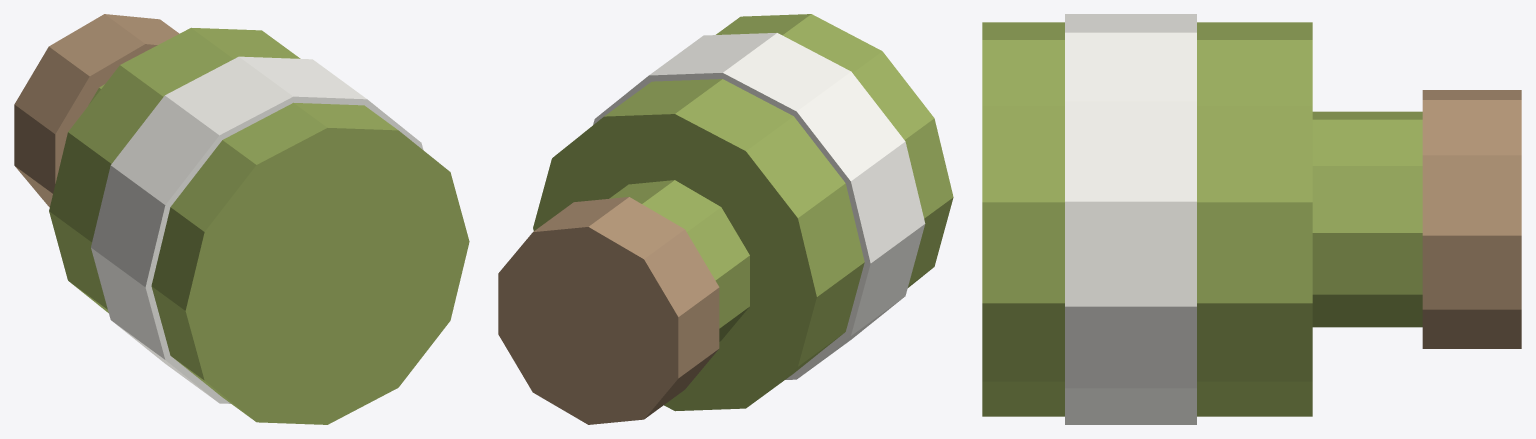
The model's file is green_dye_held.gltf.
3 renders of one model, left to right at view 1: azimuth 30°, elevation 25°; view 2: azimuth 150°, elevation 25°; view 3: azimuth 270°, elevation 25°, orthographic. The views are drawn at different scales.
Parts seen in each view (by area): view 1: colors_green_dye_held; view 2: colors_green_dye_held; view 3: colors_green_dye_held.
Boxes of the visible parts, x1,y1,x2,y2 form: colors_green_dye_held: [14, 14, 469, 424]; colors_green_dye_held: [498, 14, 953, 424]; colors_green_dye_held: [982, 14, 1521, 424].
Size of the model in its own units: 0.075 by 0.075 by 0.098.
